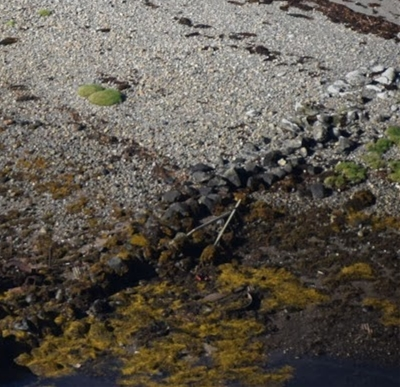tube: (208, 197, 245, 248), (181, 211, 225, 239)
